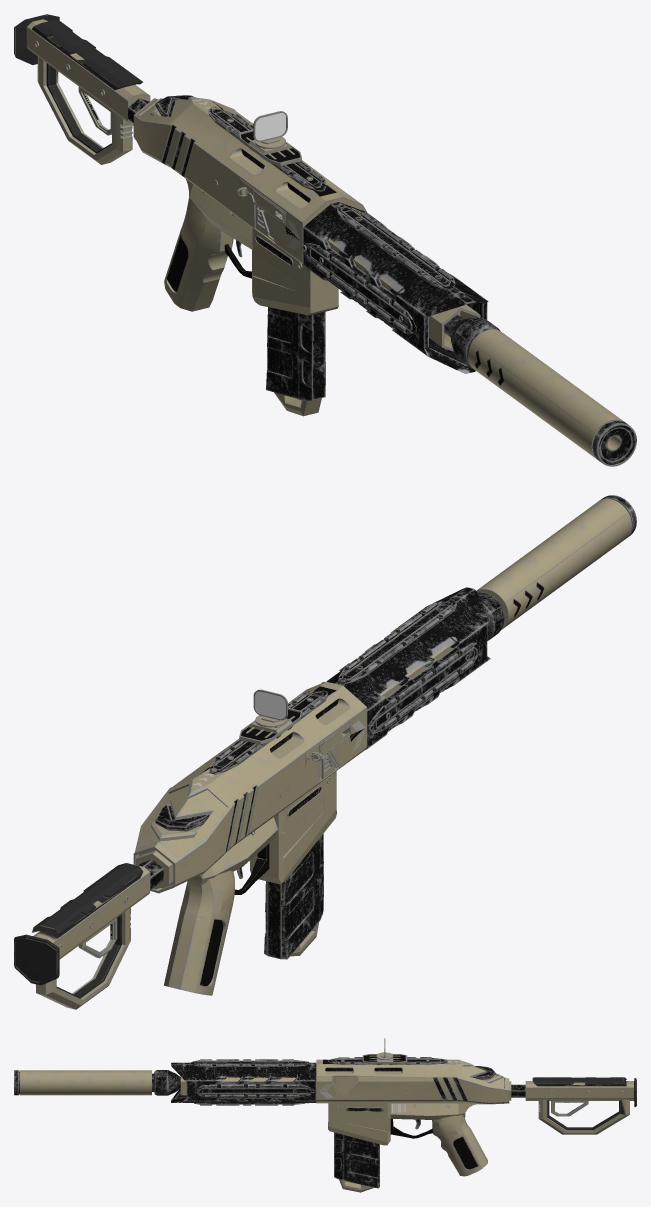
The model's file is phantom.glb.
The picture shows the model from 3 angles, top to bottom: view 1: azimuth 30°, elevation 25°; view 2: azimuth 150°, elevation 25°; view 3: azimuth 270°, elevation 25°; orthographic projection. The views are drawn at different scales.
Size of the model in its own units: 0.0725 by 0.2509 by 0.95.
Materials: 2 (1 with a texture image).
